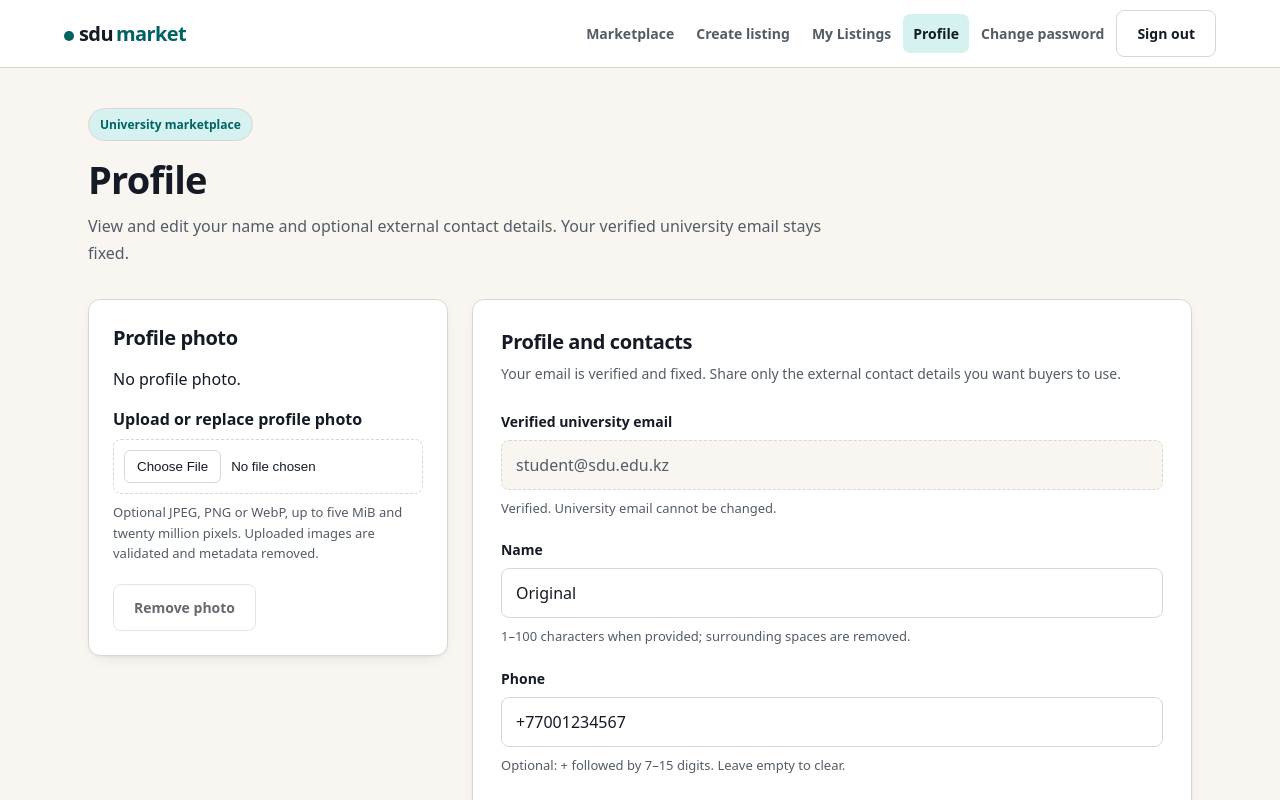
contact clearing submits explicit null and only changed allowed fields with trimmed name
Replace the text in the field labelled "Name" with "  Updated  " at (832, 593), box [501,568,1163,618]
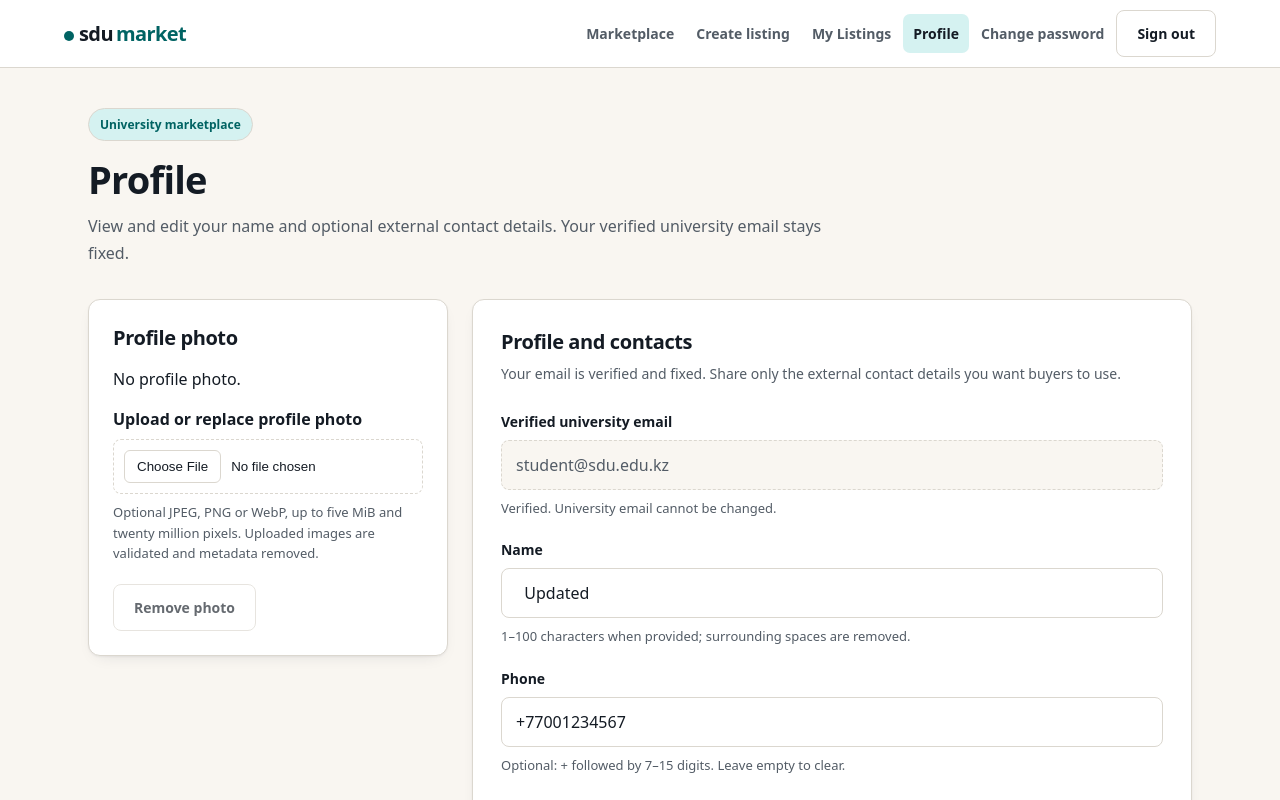
Clear the field labelled "Phone" at (832, 722), box [501,697,1163,747]
(page scrolled)
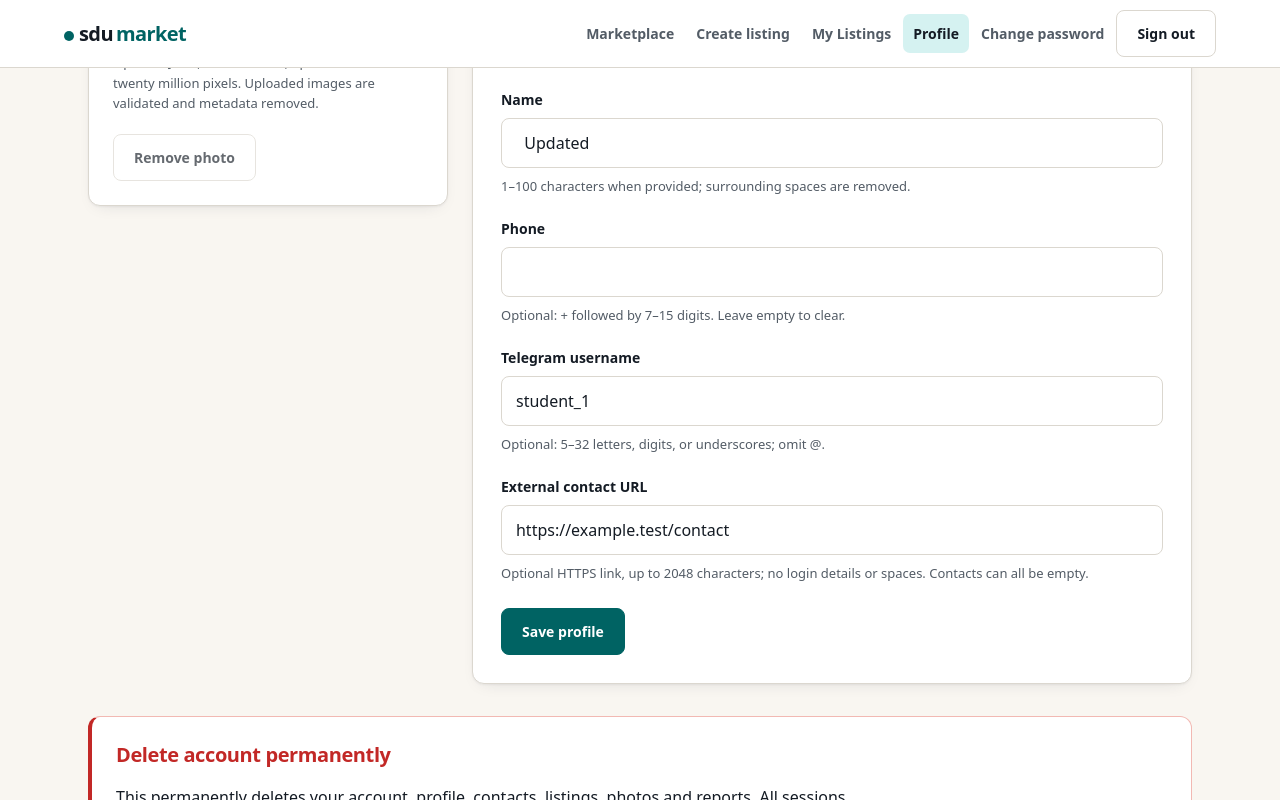
Clear the field labelled "Telegram username" at (832, 401), box [501,376,1163,426]
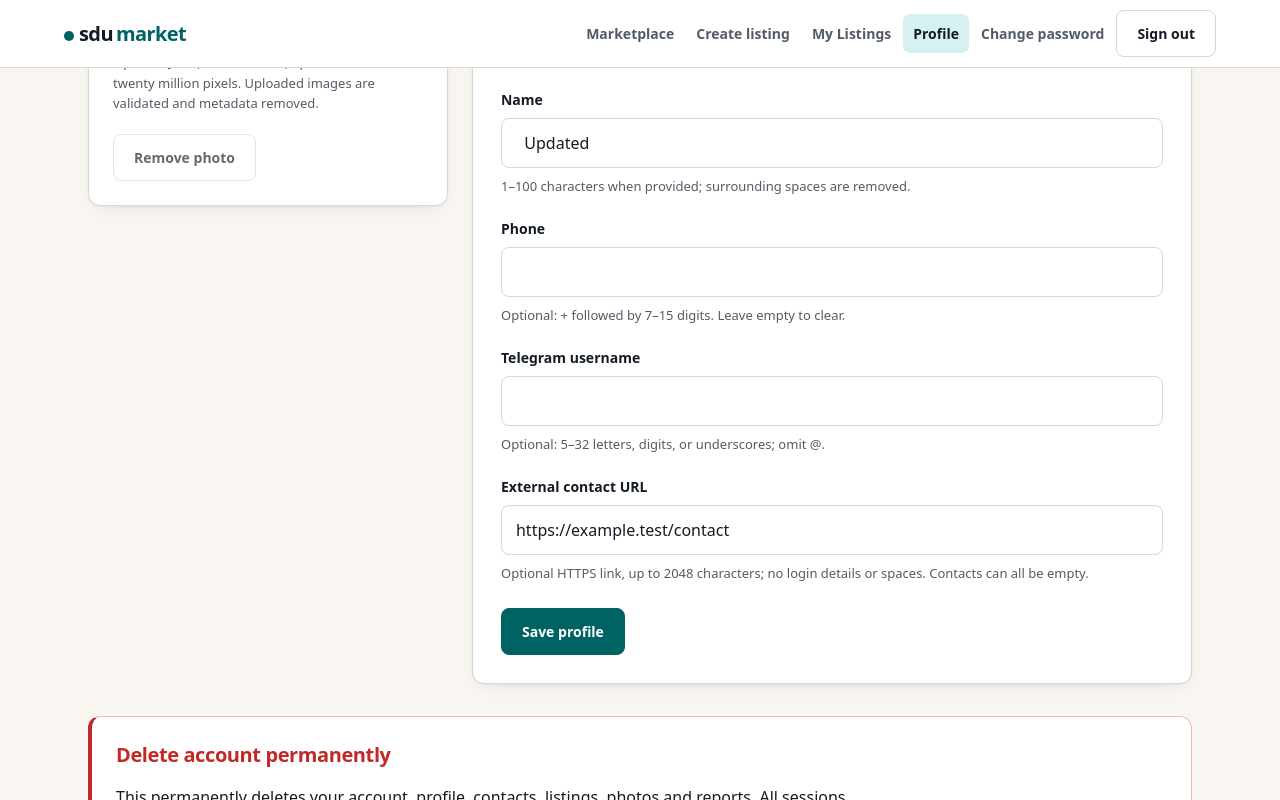
Clear the field labelled "External contact URL" at (832, 530), box [501,505,1163,555]
(page scrolled)
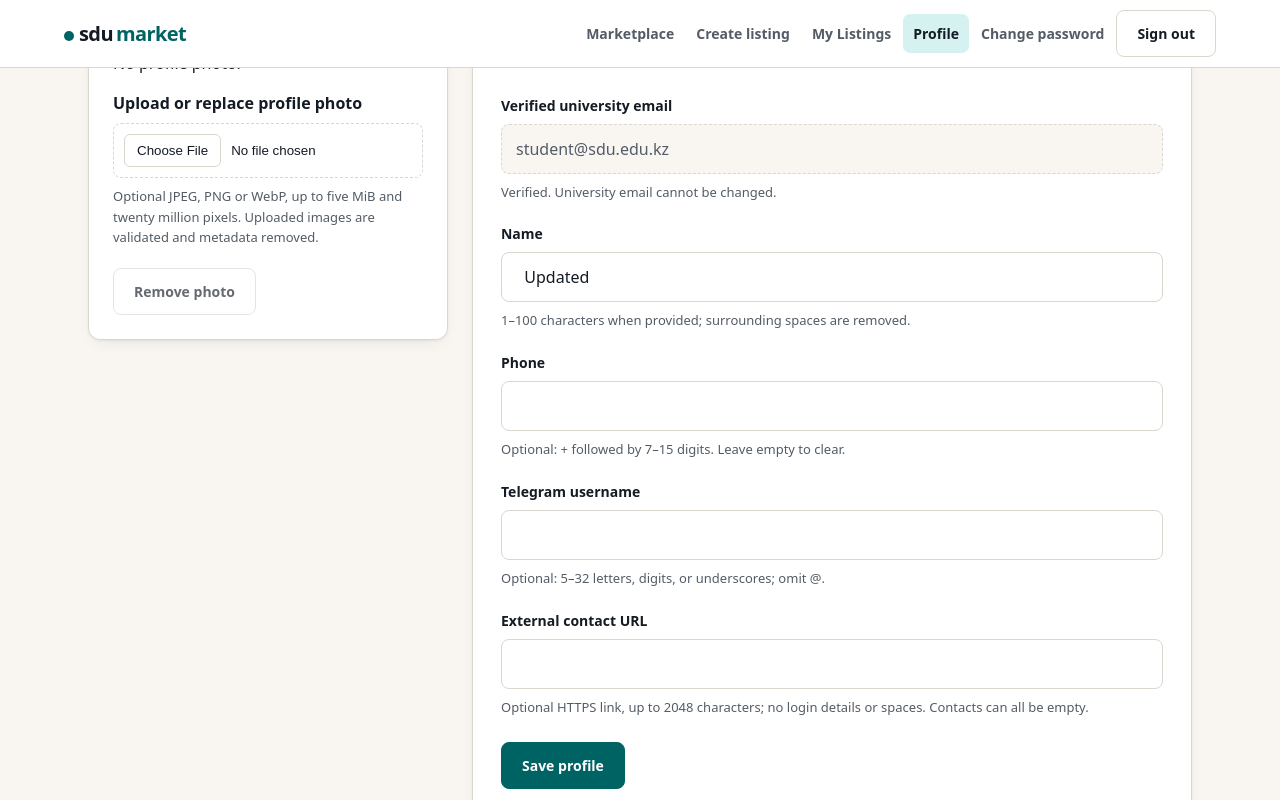
Submit the form named "Own profile"
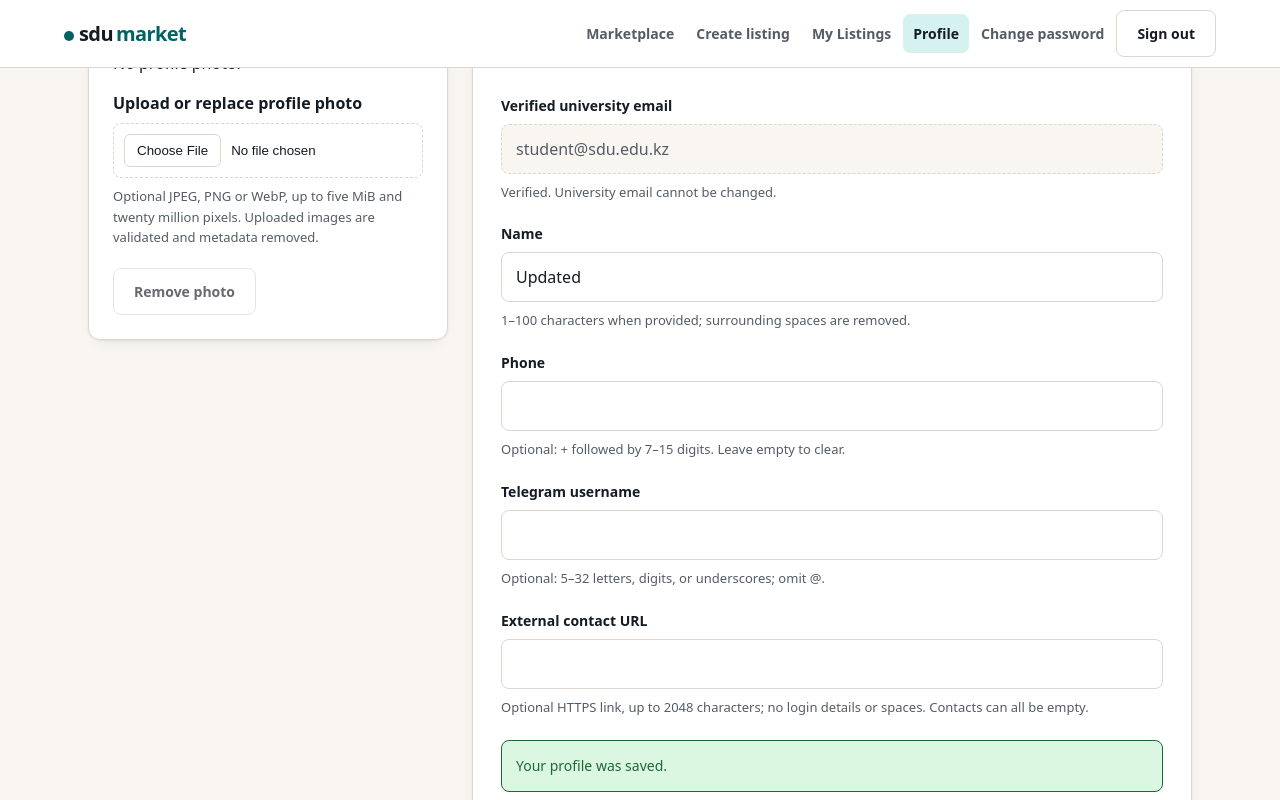
Expected: the text "Your profile was saved." is shown, [501,740,1163,792]
